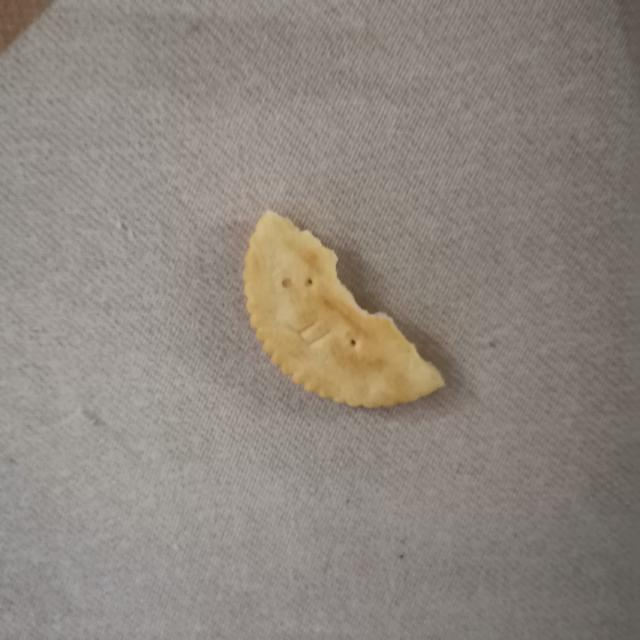Broken: (241, 208, 446, 409)
